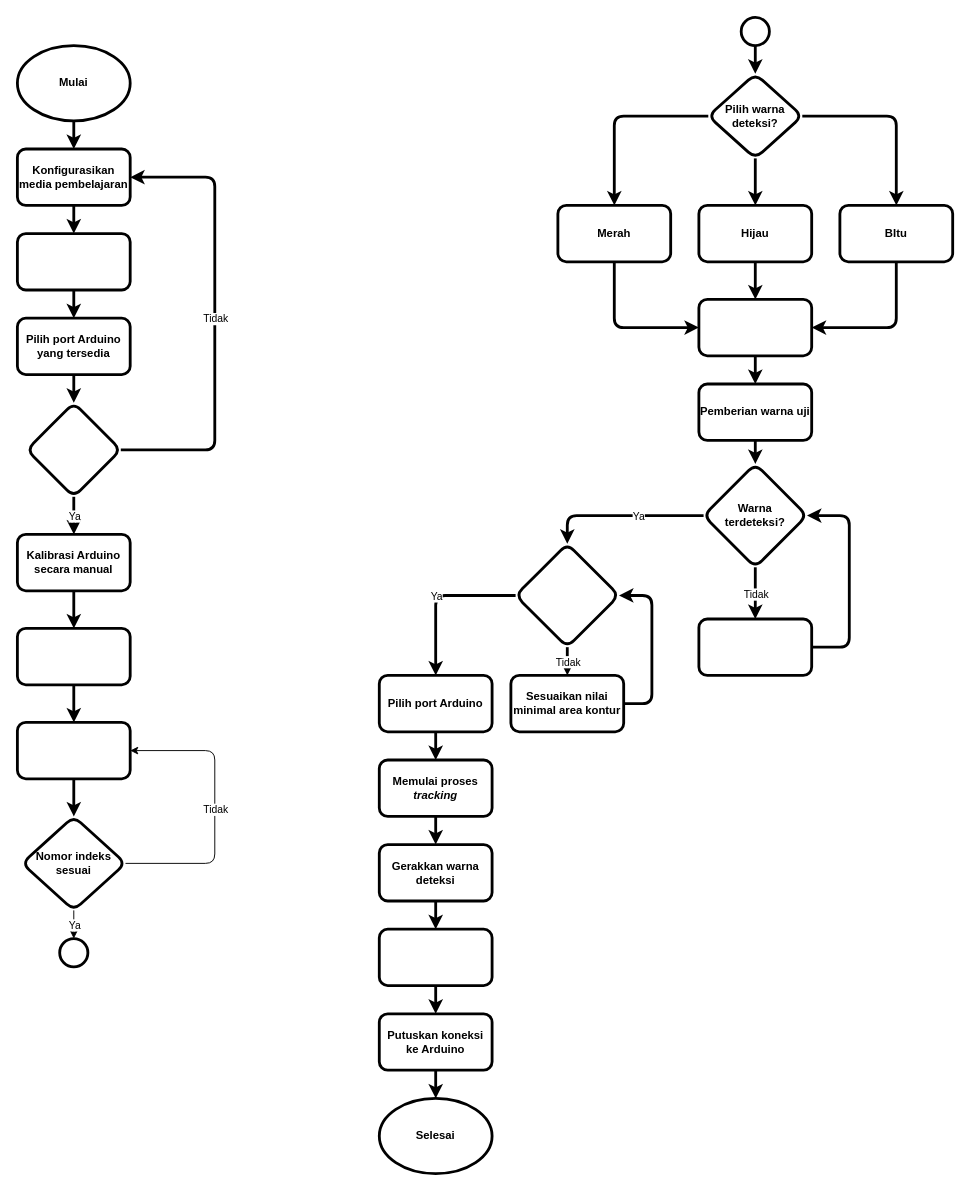
Some shapes in this 970 by 1191 pixel diagram are drawn without their labels. The shapes that lost their labels are listed below. From the top down, each one's centre as x and y in pixels, then its label:
[73,261]: Jalankan kode program
[755,327]: Warna deteksi pilihan
[73,449]: Port tersedia?
[567,595]: Tersisa 1 lingkaran kontur deteksi?
[73,656]: Putuskan koneksi dengan Arduino
[755,646]: Sesuaikan batas atas dan bawah HSV
[73,750]: Pilih nomor indeks kamera yang tersedia
[435,957]: Menghentikan proses tracking
